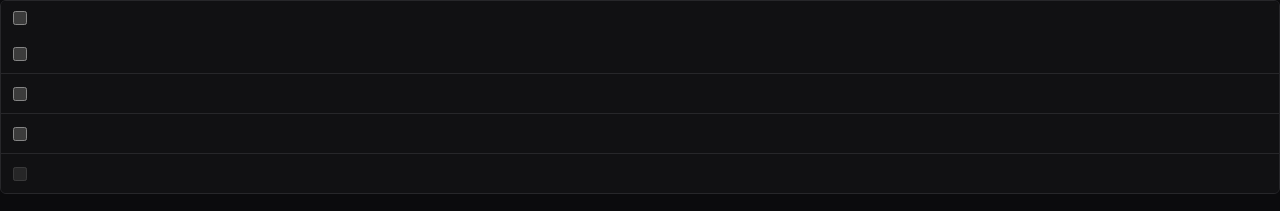
selection wired end to end › never selects a row that is not among the hook's ids
Click the 1st checkbox named "Select all 3 rows" at (20, 18), box x1=13 y1=11 x2=27 y2=25
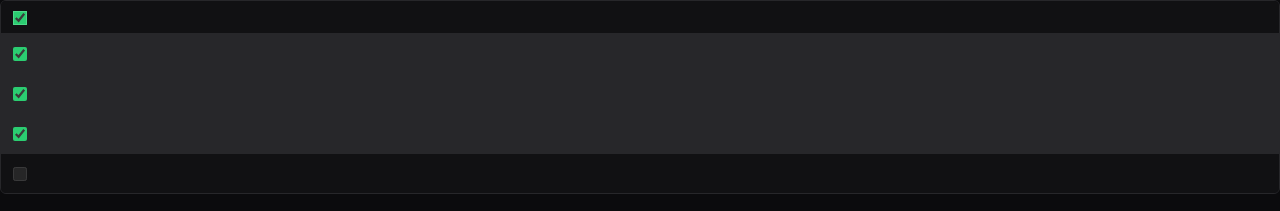
Check: the 4th checkbox named "Select run_c" is checked, box x1=13 y1=127 x2=27 y2=141
